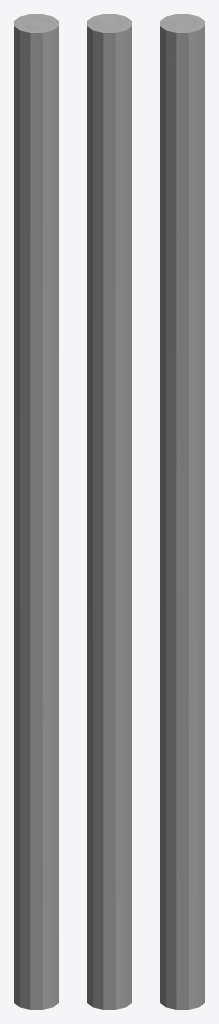
The model's file is steel_pole.obj.
The picture shows the model from 3 angles, left to right: view 1: azimuth 30°, elevation 25°; view 2: azimuth 150°, elevation 25°; view 3: azimuth 330°, elevation 25°; orthographic projection.
Parts seen in each view (by area): view 1: cylinder; view 2: cylinder; view 3: cylinder.
Boxes of the visible parts, x1,y1,x2,y2 form: cylinder: (14, 14, 58, 1009); cylinder: (87, 14, 131, 1009); cylinder: (160, 14, 204, 1009).
Size of the model in its own units: 0.0625 by 1.5 by 0.0625.
Materials: 1 (1 with a texture image).
